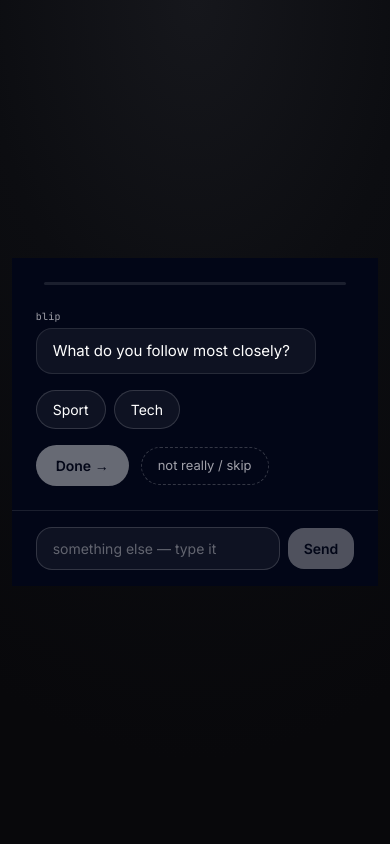
Test: InterviewChat — one-scrollback interview (Rule 9) › shows an in-scrollback retry on a failed turn and re-sends the same state on Retry
Click the button with test id "option-chip" showing "Sport" at (71, 410), box x1=36 y1=390 x2=106 y2=429
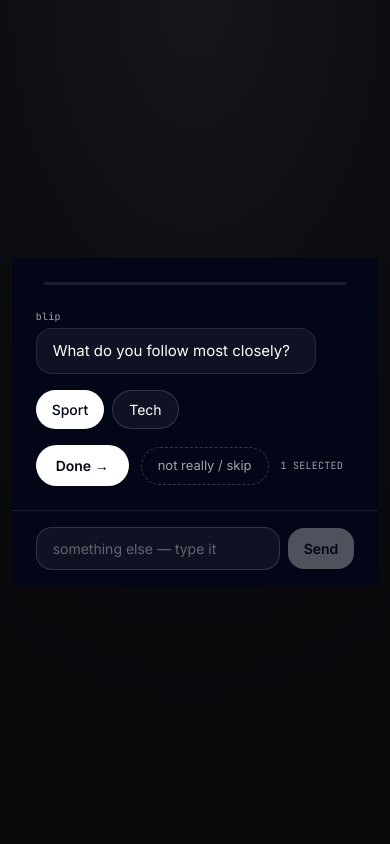
Click the button "Done →" at (82, 466), box x1=36 y1=445 x2=129 y2=486
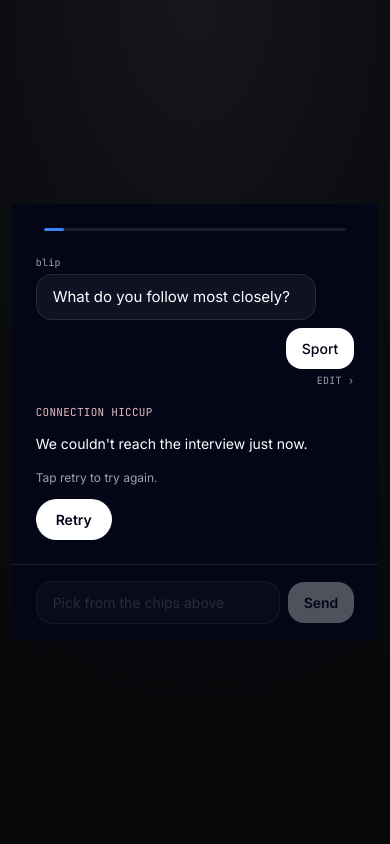
Check: the text "couldn't reach the interview" is shown, box x1=36 y1=435 x2=308 y2=452
Click the button "Retry" at (74, 520), box x1=36 y1=499 x2=112 y2=540
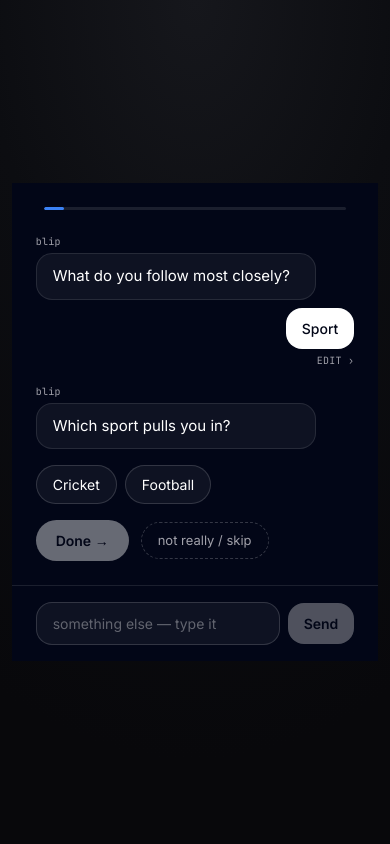
Check: the text "Which sport pulls you in?" is shown, box x1=36 y1=402 x2=316 y2=449
